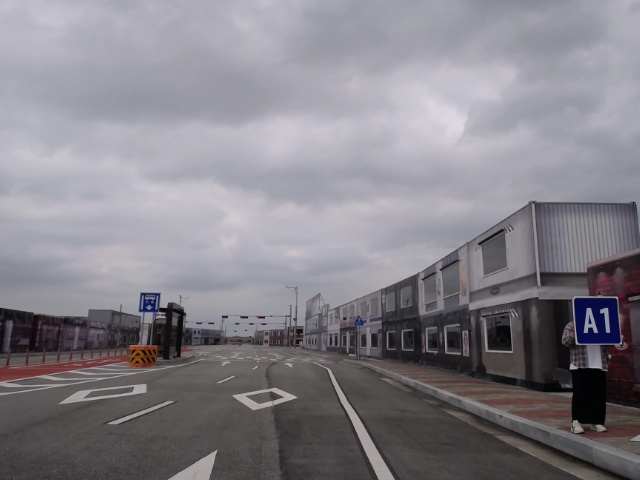delivery_a1: (572, 297, 622, 345)
